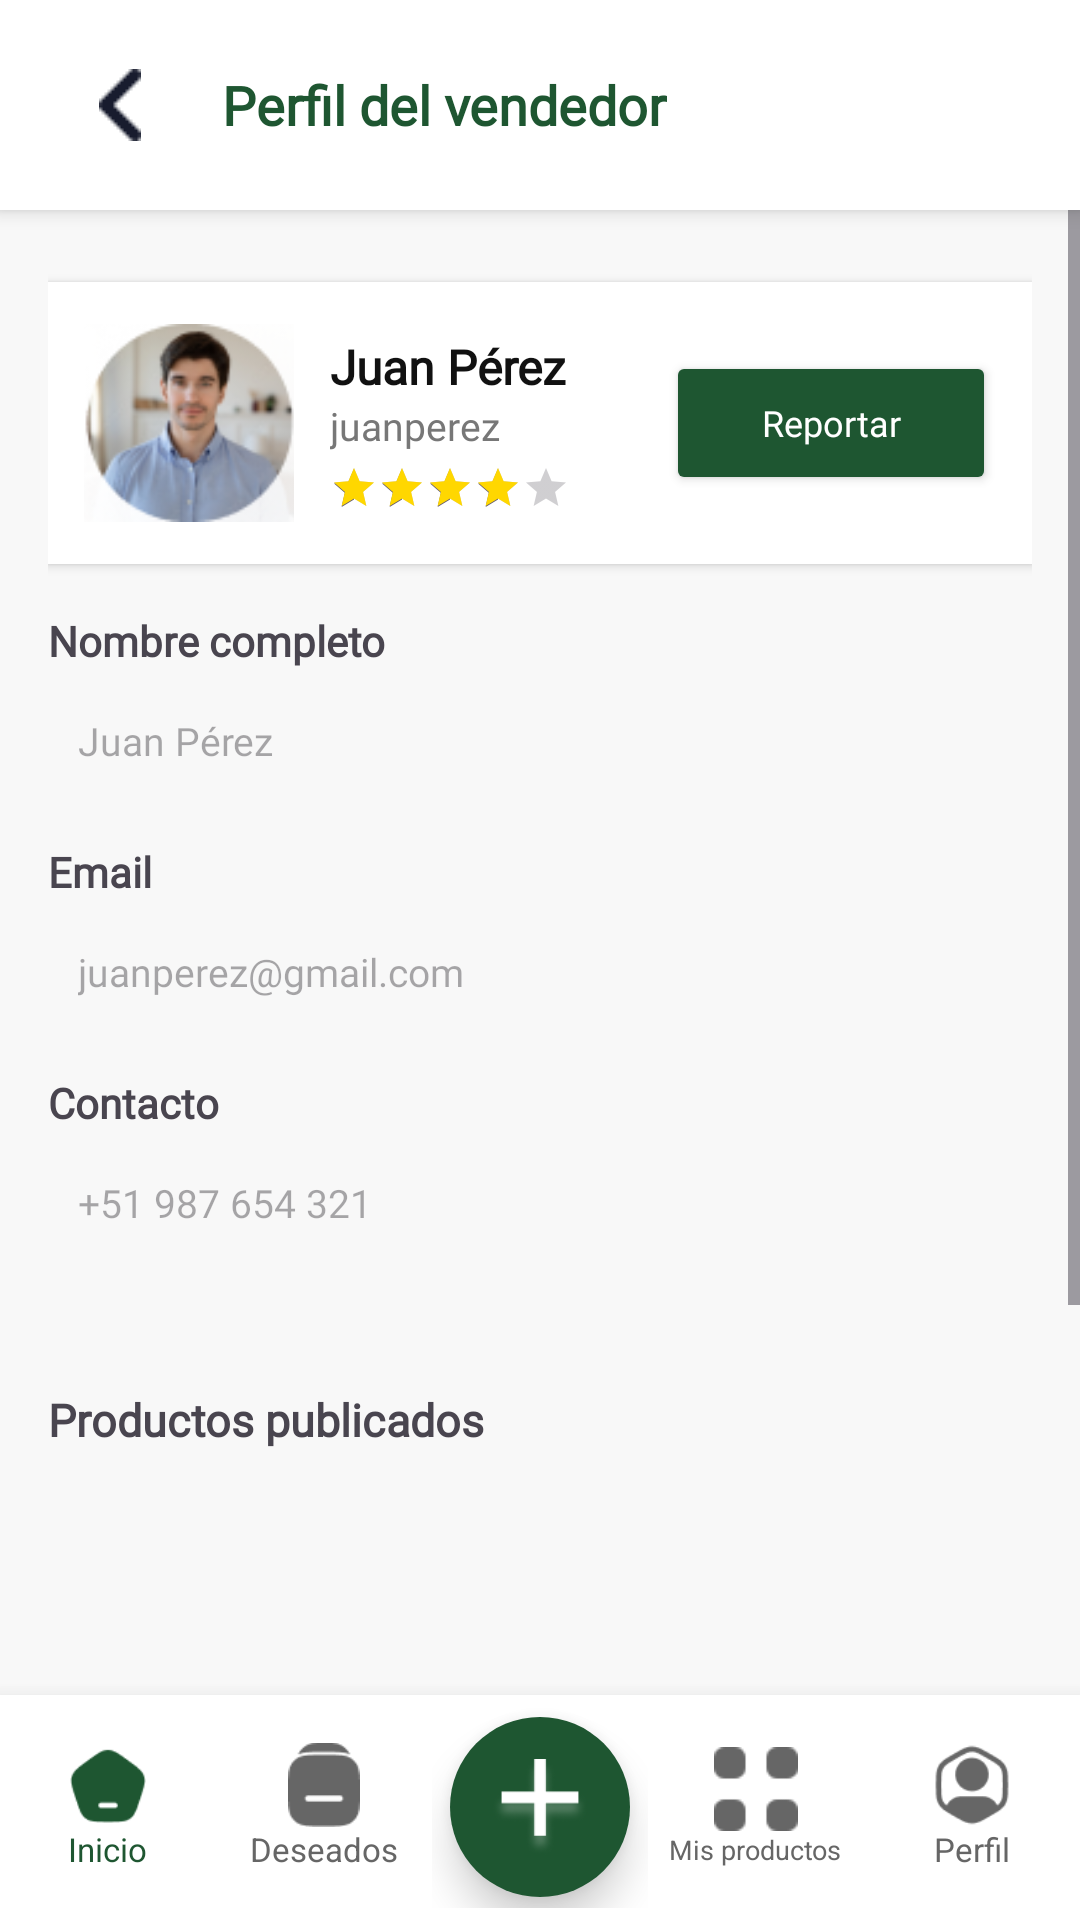

Named icons in this screenshot (1080px x 1920px) and their bounding boxes, (x1, y1, x2, y2):
back: (99, 69, 141, 141)
Mis publicaciones: (714, 1747, 798, 1831)
Publicar: (501, 1759, 579, 1845)
